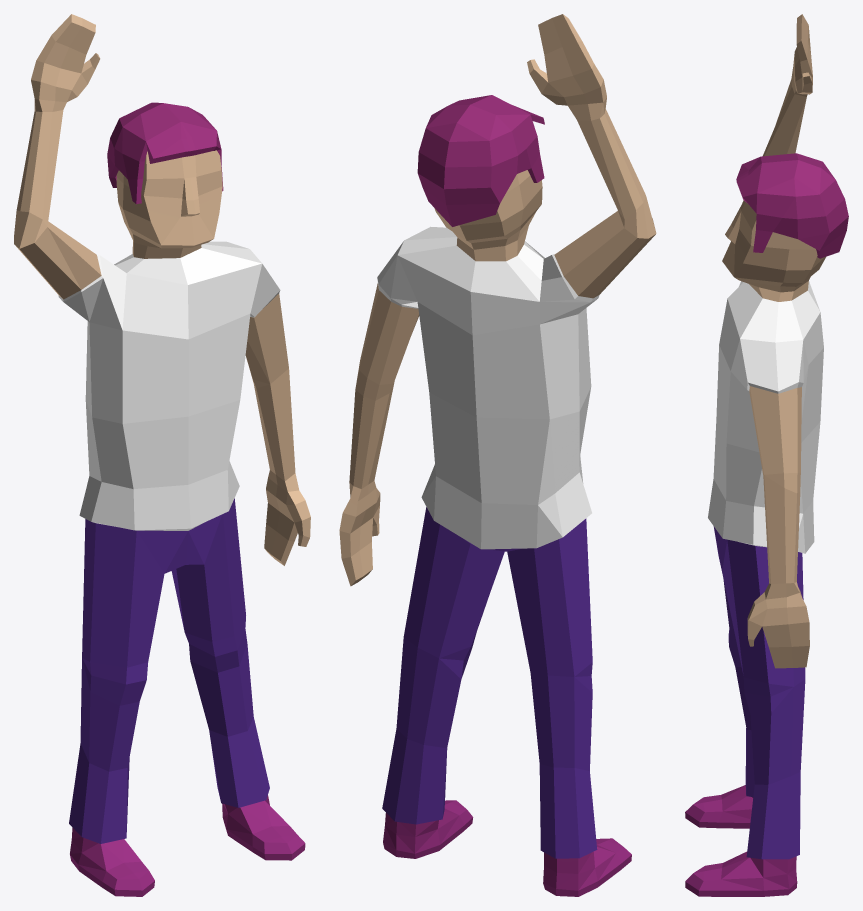
The picture shows the model from 3 angles, left to right: view 1: azimuth 30°, elevation 25°; view 2: azimuth 150°, elevation 25°; view 3: azimuth 270°, elevation 25°; orthographic projection. The views are drawn at different scales.
Parts seen in each view (by area): view 1: Male_Standing_Waving, Male_Hairstyle_2; view 2: Male_Standing_Waving, Male_Hairstyle_2; view 3: Male_Standing_Waving, Male_Hairstyle_2.
Part boxes in pixels (x1=…): Male_Standing_Waving: x1=14, y1=14, x2=310, y2=896; Male_Hairstyle_2: x1=107, y1=102, x2=223, y2=204; Male_Standing_Waving: x1=339, y1=14, x2=656, y2=896; Male_Hairstyle_2: x1=417, y1=95, x2=544, y2=226; Male_Standing_Waving: x1=685, y1=14, x2=825, y2=896; Male_Hairstyle_2: x1=736, y1=153, x2=848, y2=258.
Size of the model in its own units: 1.57 by 4.47 by 0.8283.
